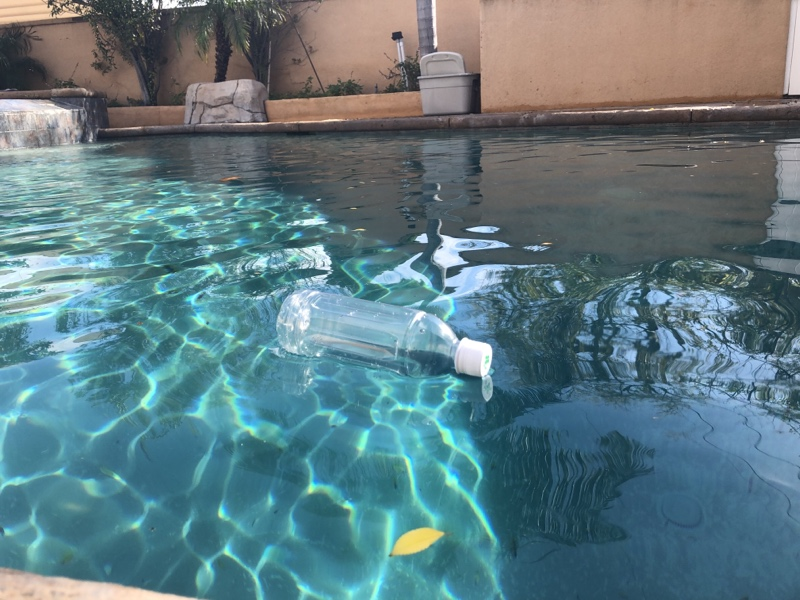Plastic Bottle: (275, 287, 496, 385)
